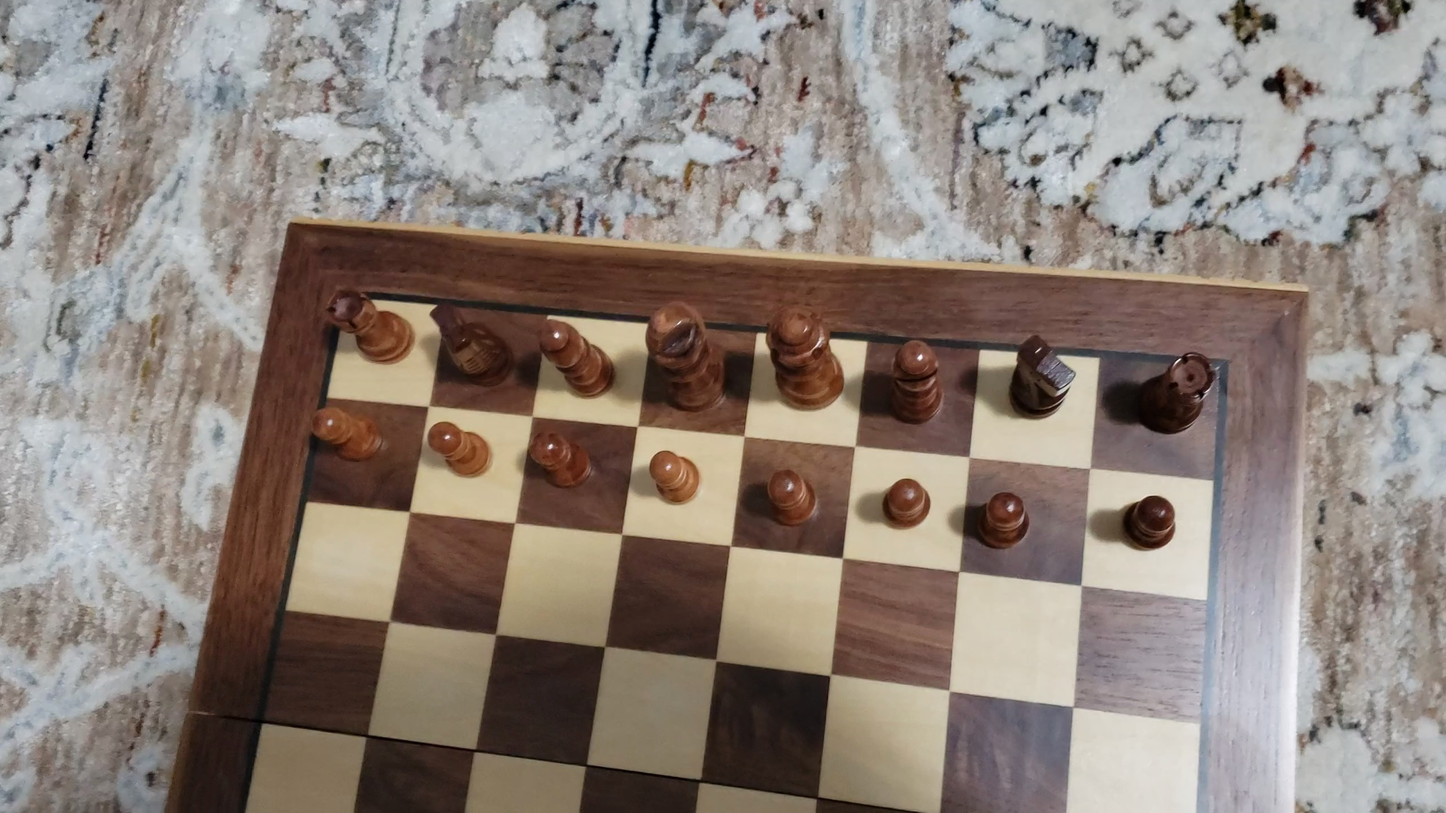black-bishop: (537, 316, 615, 399), (889, 336, 944, 425)
black-king: (643, 296, 728, 414)
black-knight: (428, 301, 515, 388), (1007, 331, 1075, 419)
black-pawn: (309, 403, 387, 464), (528, 427, 594, 491), (426, 419, 493, 479), (976, 488, 1033, 552), (763, 464, 819, 528), (1122, 492, 1179, 553), (647, 447, 701, 506), (880, 474, 932, 531)
black-queen: (765, 296, 852, 424)
black-rook: (1135, 349, 1219, 435), (324, 286, 413, 364)
